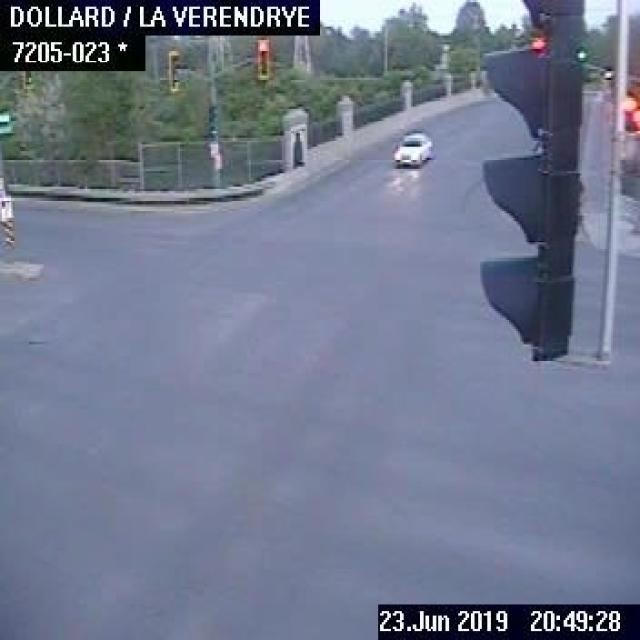vehicle: (389, 126, 435, 166)
